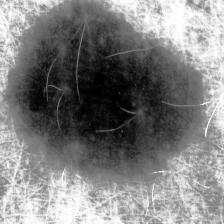Benign Marking or Mole: (7, 0, 203, 173)
